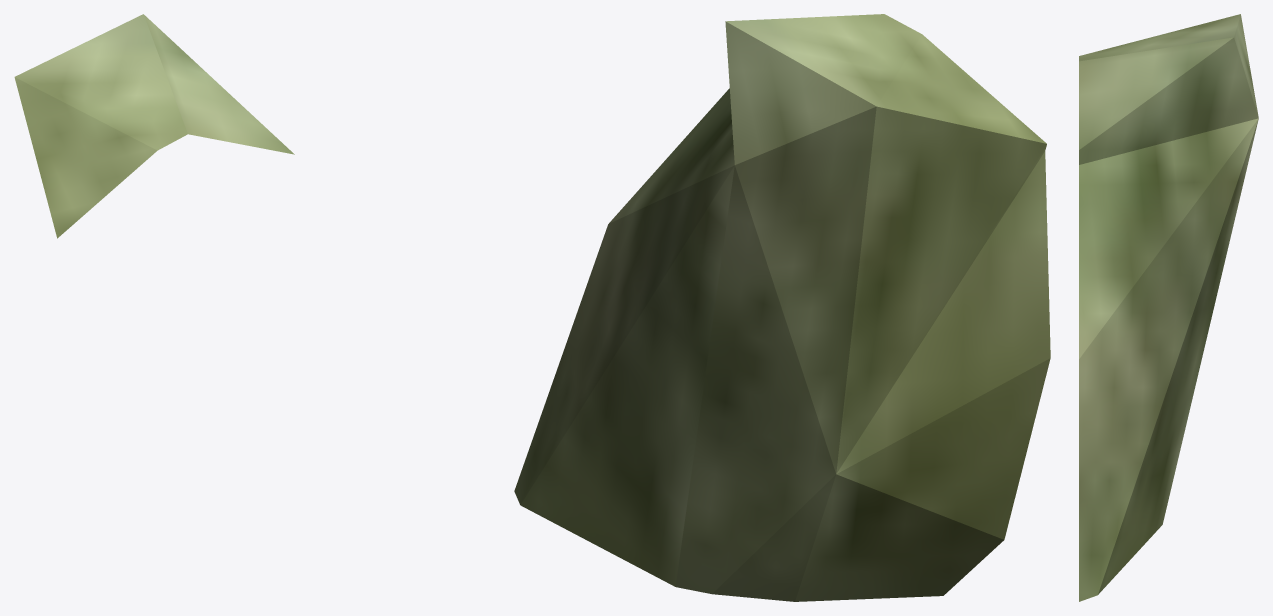
3 views of the same model, side by side, from view 1: azimuth 30°, elevation 25°; view 2: azimuth 150°, elevation 25°; view 3: azimuth 270°, elevation 25° (orthographic). The views are drawn at different scales.
Bounding box in the file's own units: 0.5438 × 0.6066 × 0.2184.
Materials: 1 (1 with a texture image).
